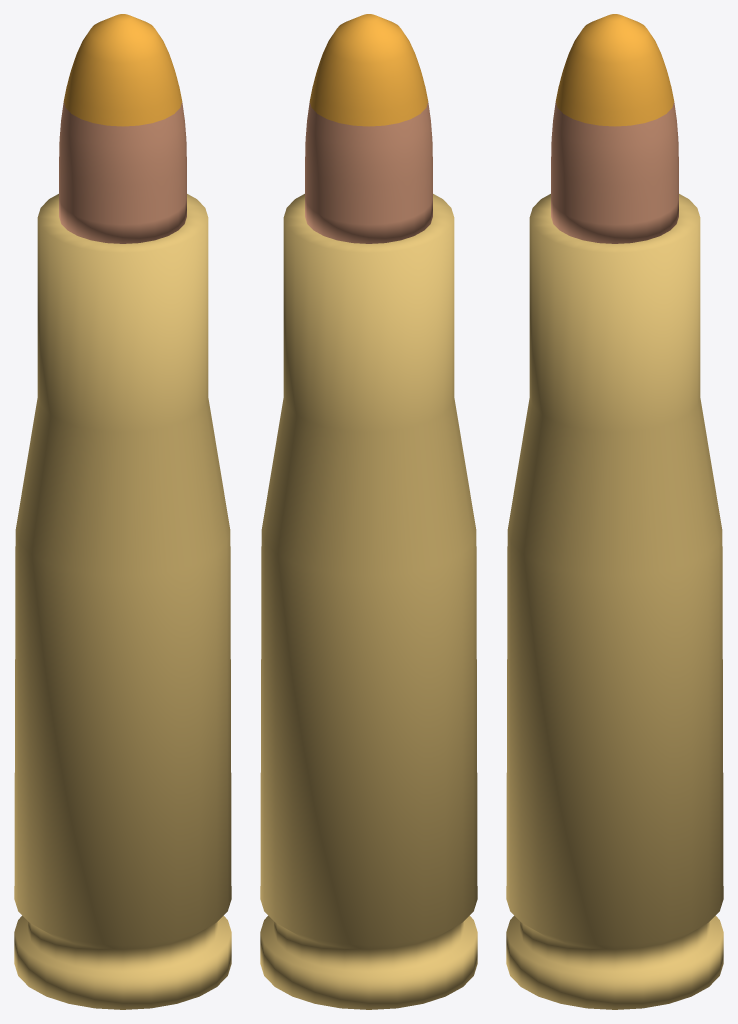
The picture shows the model from 3 angles, left to right: view 1: azimuth 30°, elevation 25°; view 2: azimuth 150°, elevation 25°; view 3: azimuth 270°, elevation 25°; orthographic projection.
Parts seen in each view (by area): view 1: vaina, bala_cuerpo, punta; view 2: vaina, bala_cuerpo, punta; view 3: vaina, bala_cuerpo, punta.
Boxes of the visible parts, bbox=[...] form: vaina: bbox=[14, 194, 231, 1009]; bala_cuerpo: bbox=[59, 102, 186, 243]; punta: bbox=[63, 14, 182, 126]; vaina: bbox=[260, 194, 477, 1009]; bala_cuerpo: bbox=[305, 102, 432, 243]; punta: bbox=[309, 14, 428, 126]; vaina: bbox=[506, 194, 723, 1009]; bala_cuerpo: bbox=[551, 102, 678, 243]; punta: bbox=[555, 14, 674, 126].
Size of the model in its own units: 0.0079 by 0.038 by 0.0079.
